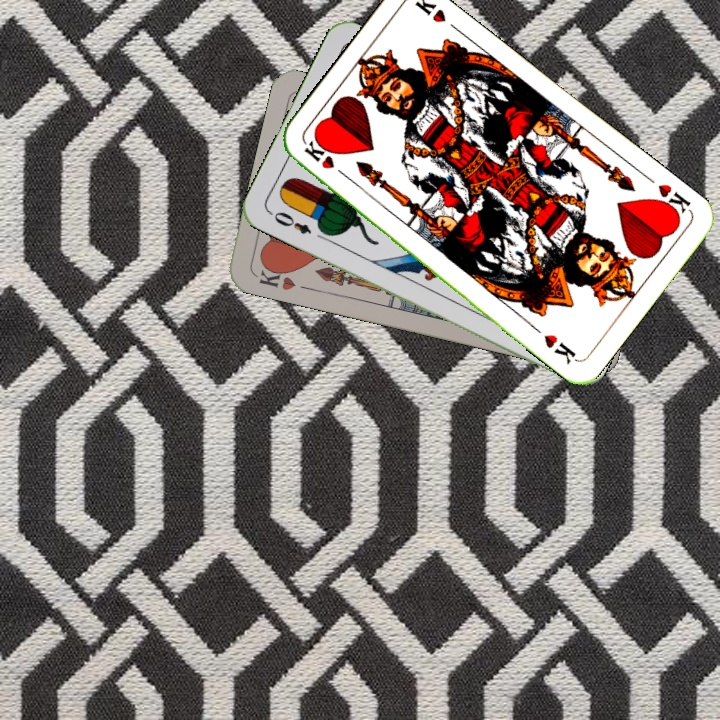EO: (265, 207, 314, 237)
HK: (300, 137, 352, 182), (650, 179, 693, 222), (252, 260, 298, 293)
